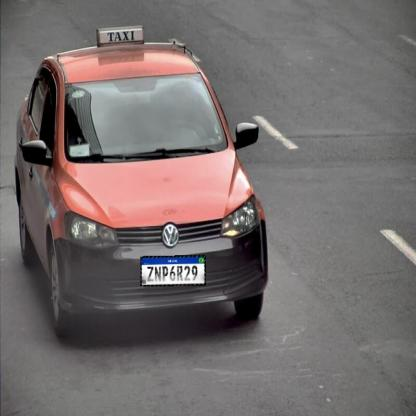PlacaM: (140, 255, 206, 286)
